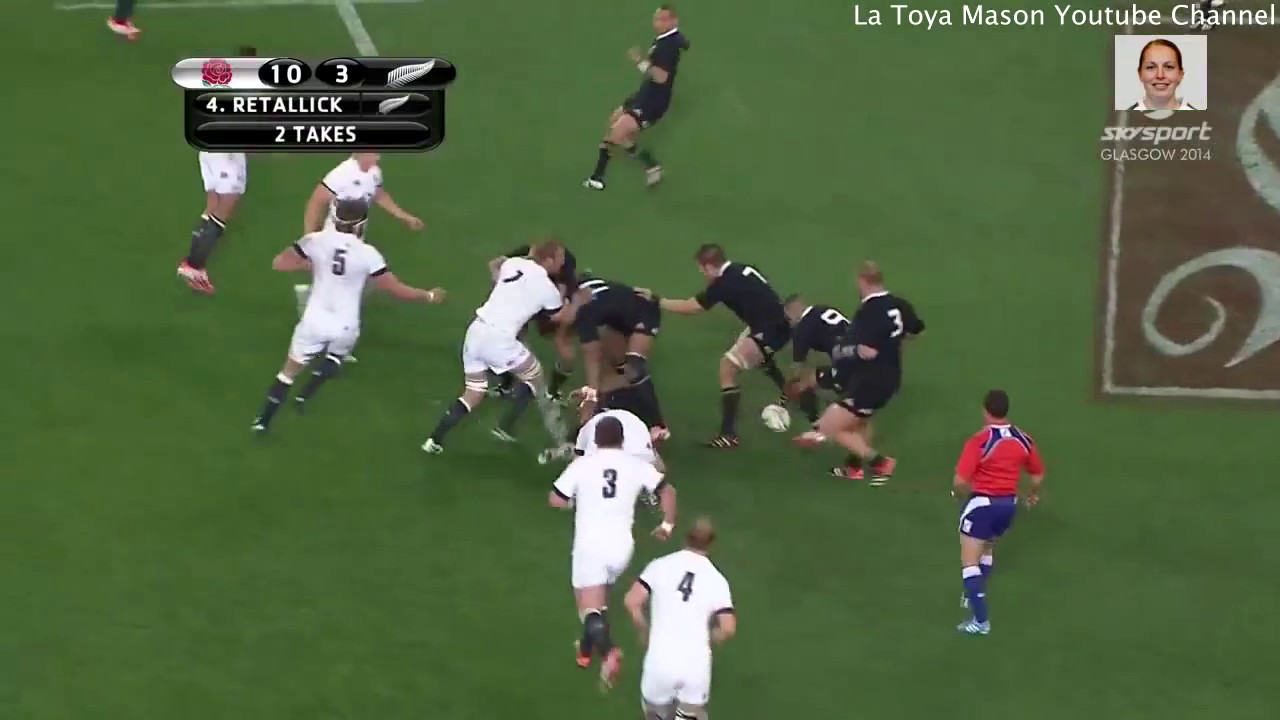ball: (752, 394, 797, 441)
maul: (470, 242, 687, 472)
player: (431, 228, 574, 459), (252, 197, 383, 441), (553, 419, 670, 690), (942, 376, 1053, 647), (814, 254, 929, 490), (621, 510, 749, 720), (674, 232, 787, 469), (578, 1, 704, 200), (550, 263, 660, 413), (171, 155, 264, 306), (306, 154, 410, 234), (773, 275, 840, 361)
